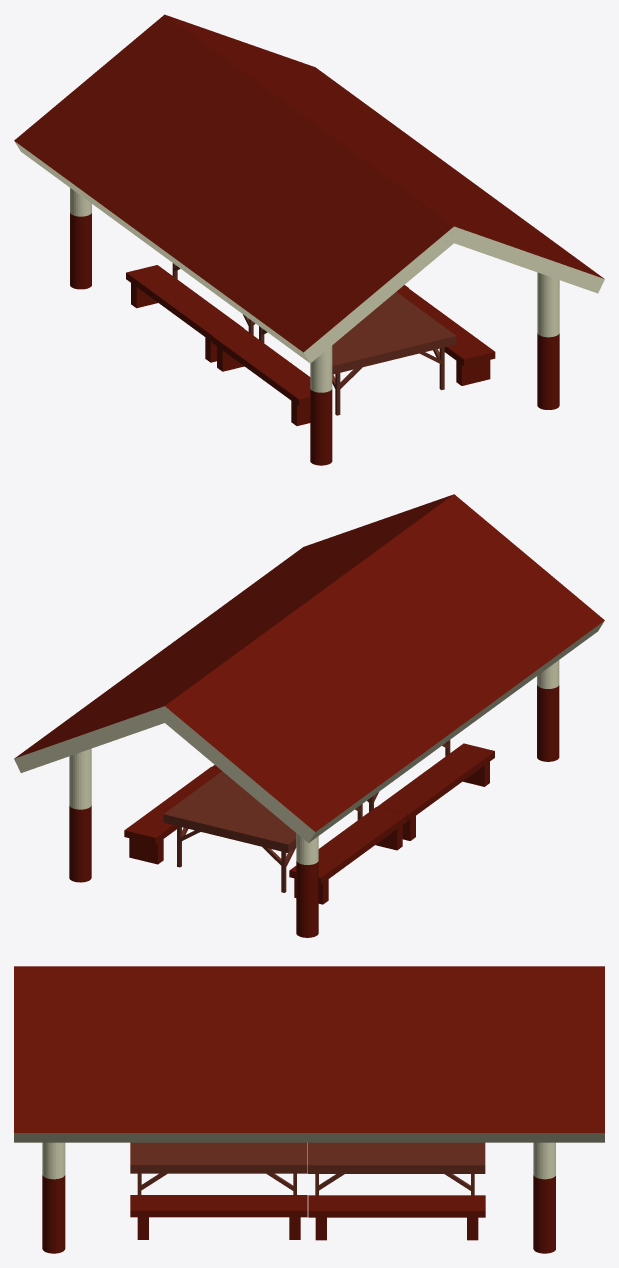
Rendered from Kubo1.fbx.
3 views of the same model, one above another, from view 1: azimuth 30°, elevation 25°; view 2: azimuth 150°, elevation 25°; view 3: azimuth 270°, elevation 25° (orthographic). The views are drawn at different scales.
Visible parts, largest first — view 1: Cube, Cube.001, Cube.002, Cube.012, Cube.015, Cylinder.002, Cylinder, Cylinder.001, Cube.021, Cube.023; view 2: Cube, Cube.001, Cube.007, Cube.015, Cube.012, Cylinder.003, Cylinder.001, Cylinder, Cube.018, Cube.019; view 3: Cube.001, Cube.002, Cube.007, Cube.018, Cube.021, Cylinder.002, Cylinder.003, Cube.
Boxes of the visible parts, box(x1,y1,x2,y2) form: Cube: box(14, 14, 453, 363); Cube.001: box(166, 15, 604, 293); Cube.002: box(332, 292, 456, 374); Cube.012: box(126, 265, 243, 341); Cube.015: box(212, 328, 310, 406); Cylinder.002: box(537, 272, 559, 409); Cylinder: box(310, 345, 332, 465); Cylinder.001: box(70, 188, 91, 289); Cube.021: box(396, 288, 495, 365); Cube.023: box(456, 360, 490, 385); Cube: box(158, 494, 604, 843); Cube.001: box(14, 494, 453, 772); Cube.007: box(163, 771, 296, 852); Cube.015: box(377, 743, 494, 820); Cube.012: box(289, 807, 407, 884); Cylinder.003: box(69, 748, 91, 882); Cylinder.001: box(296, 833, 318, 937); Cylinder: box(537, 660, 559, 761); Cube.018: box(124, 766, 221, 844); Cube.019: box(129, 838, 163, 864); Cube.001: box(14, 966, 604, 1142); Cube.002: box(130, 1142, 307, 1173); Cube.007: box(308, 1142, 485, 1173); Cube.018: box(308, 1195, 485, 1217); Cube.021: box(130, 1195, 307, 1217); Cylinder.002: box(42, 1142, 65, 1253); Cylinder.003: box(533, 1142, 555, 1253); Cube: box(14, 966, 604, 966).
Bounding box in the file's own units: 794 × 557 × 1320.
